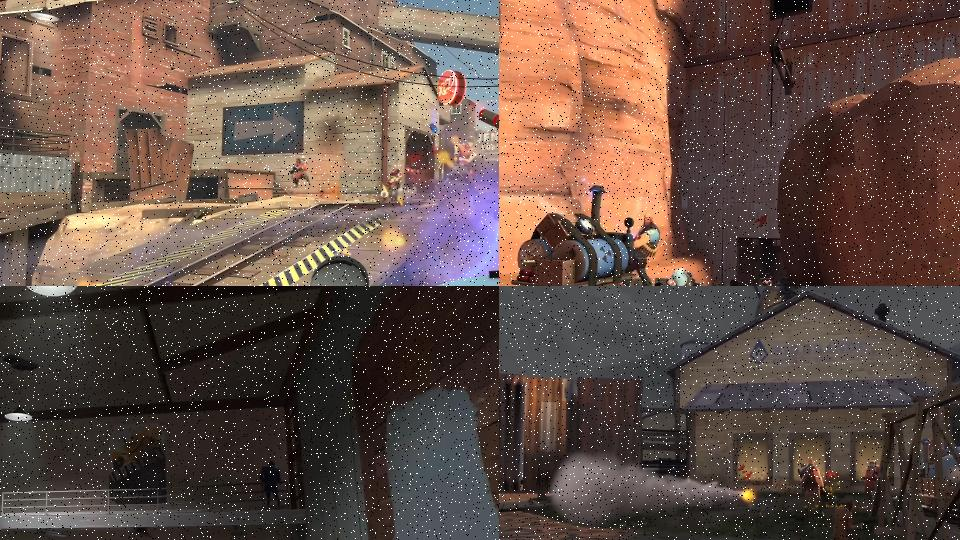Enemy: (621, 213, 660, 286), (799, 459, 836, 516), (833, 501, 875, 540), (450, 136, 478, 188), (259, 460, 282, 509), (861, 459, 880, 503), (663, 267, 704, 286), (382, 164, 402, 201), (289, 156, 311, 185)
